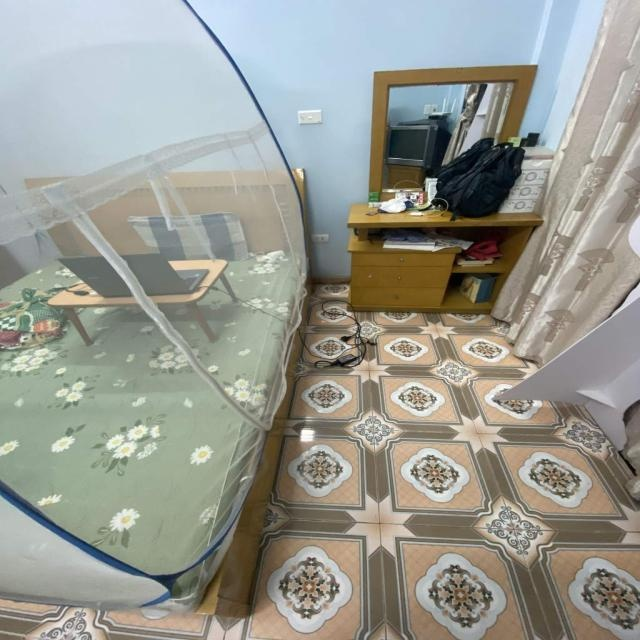outlet: (311, 233, 329, 243)
